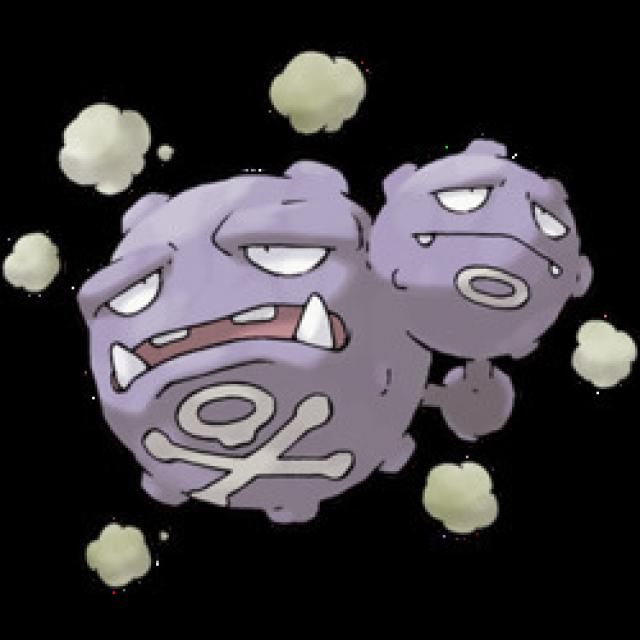Weezing: (73, 143, 594, 519)
